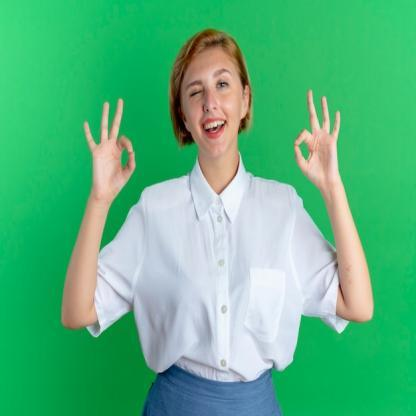ok: (81, 95, 139, 208), (292, 86, 343, 192)
